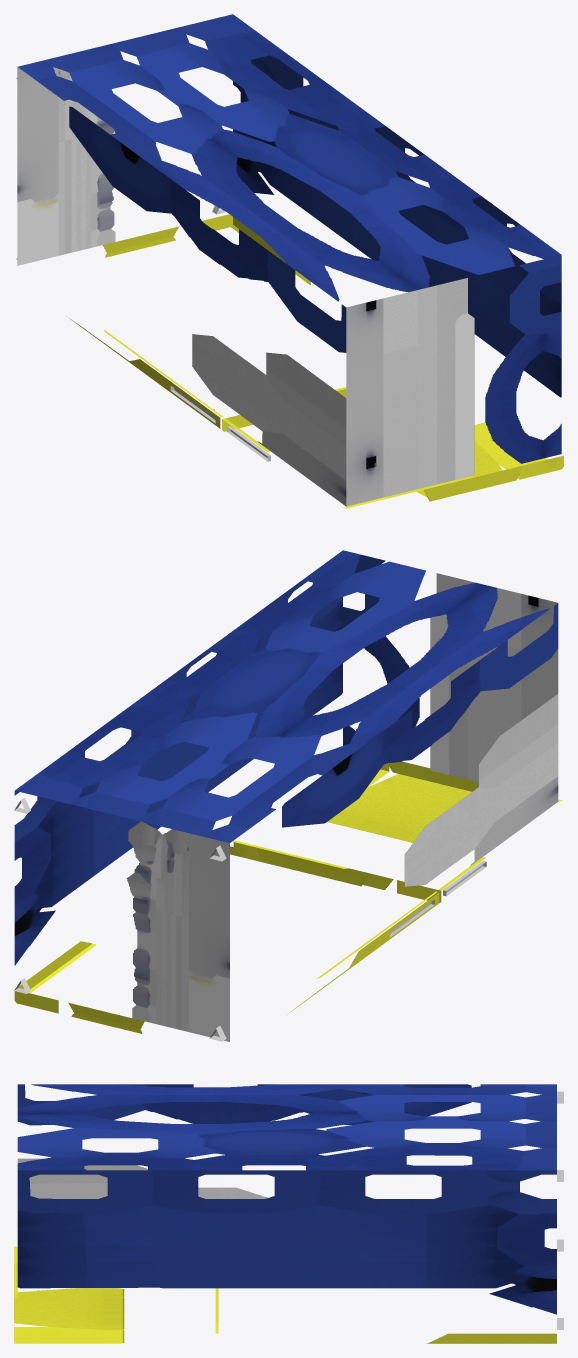
File: Fridge.obj
The picture shows the model from 3 angles, top to bottom: view 1: azimuth 30°, elevation 25°; view 2: azimuth 150°, elevation 25°; view 3: azimuth 270°, elevation 25°; orthographic projection. The views are drawn at different scales.
Parts seen in each view (by area): view 1: fridge_Cube.002; view 2: fridge_Cube.002; view 3: fridge_Cube.002.
Boxes of the visible parts, x1,y1,x2,y2 form: fridge_Cube.002: (16, 14, 563, 508); fridge_Cube.002: (14, 550, 562, 1041); fridge_Cube.002: (14, 1084, 563, 1343).
Bounding box in the file's own units: 0.588 × 0.545 × 1.56.
